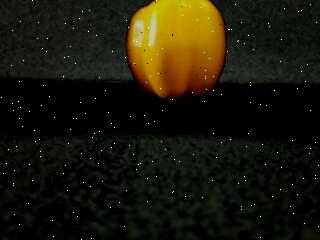Capsicum: (126, 0, 227, 103)
